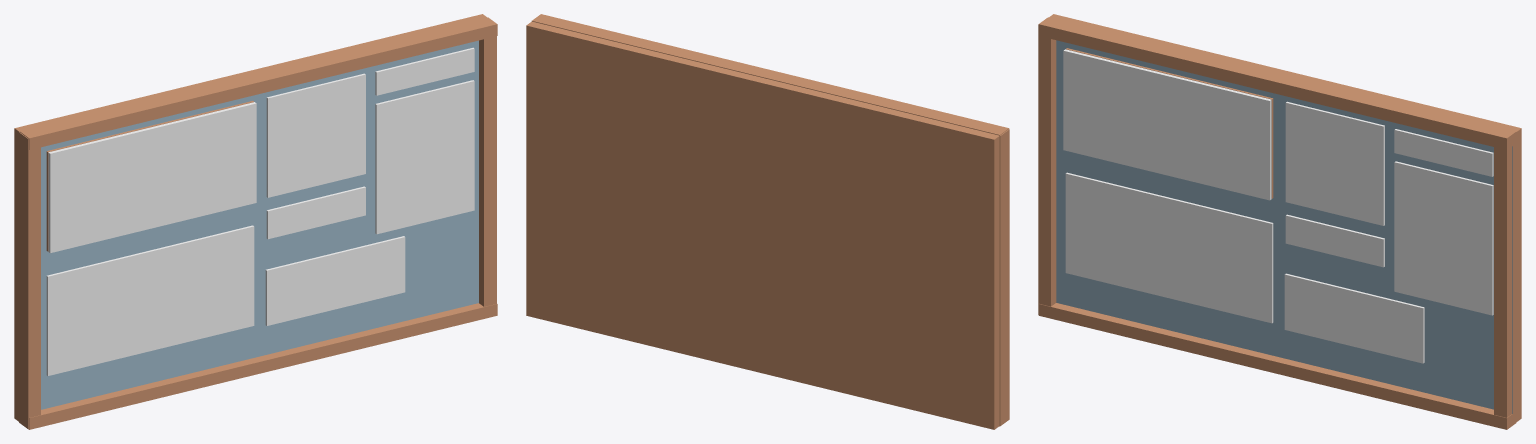
The model's file is painting.obj.
The picture shows the model from 3 angles, left to right: view 1: azimuth 30°, elevation 25°; view 2: azimuth 150°, elevation 25°; view 3: azimuth 330°, elevation 25°; orthographic projection.
Visible parts, largest first — view 1: group5_pasted__pCube2; view 2: group5_pasted__pCube2; view 3: group5_pasted__pCube2.
Boxes of the visible parts, left/top/right/bottom form: group5_pasted__pCube2: left=14, top=14, right=497, bottom=429; group5_pasted__pCube2: left=526, top=14, right=1009, bottom=429; group5_pasted__pCube2: left=1038, top=14, right=1521, bottom=429.
Size of the model in its own units: 1.52 by 0.9058 by 0.0836.
Materials: 3 (3 with a texture image).
